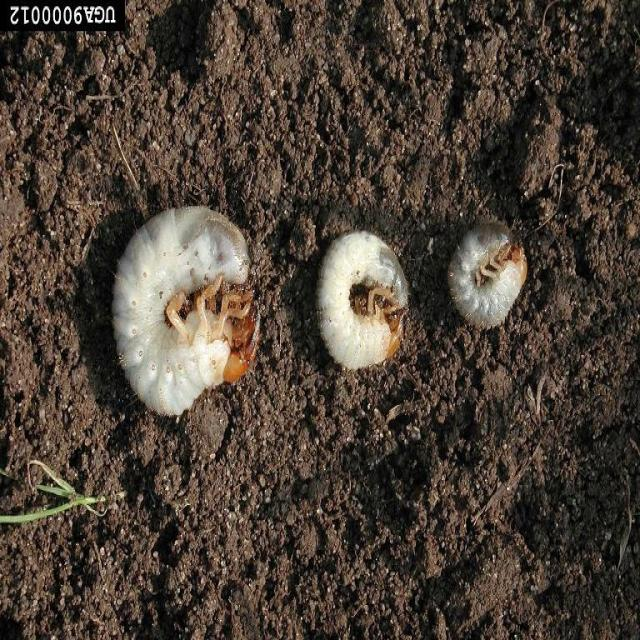grub: (100, 203, 262, 421), (315, 226, 414, 371), (439, 228, 531, 336)
